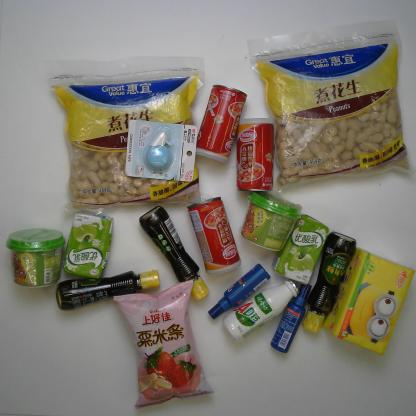Canned Food: (186, 195, 242, 278), (196, 80, 247, 161), (235, 116, 273, 193)
Dried Food: (247, 20, 412, 194), (41, 55, 213, 211)
Instant Drink: (240, 190, 302, 250), (6, 228, 66, 287)
Milk: (222, 278, 299, 343), (274, 214, 331, 286), (61, 211, 114, 278)
Personal Hygiene: (209, 262, 270, 320), (272, 282, 311, 352)
Puffed Food: (113, 281, 213, 410)
Seasoner: (137, 203, 210, 301), (302, 230, 358, 334), (55, 269, 161, 313)
Stationery: (124, 119, 199, 185)
Tissue: (323, 248, 414, 355)
